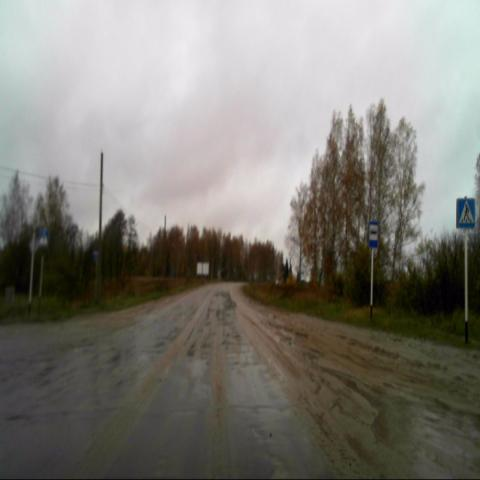5_16: (367, 219, 379, 246)
5_19_1: (456, 197, 476, 229), (38, 228, 49, 248)
